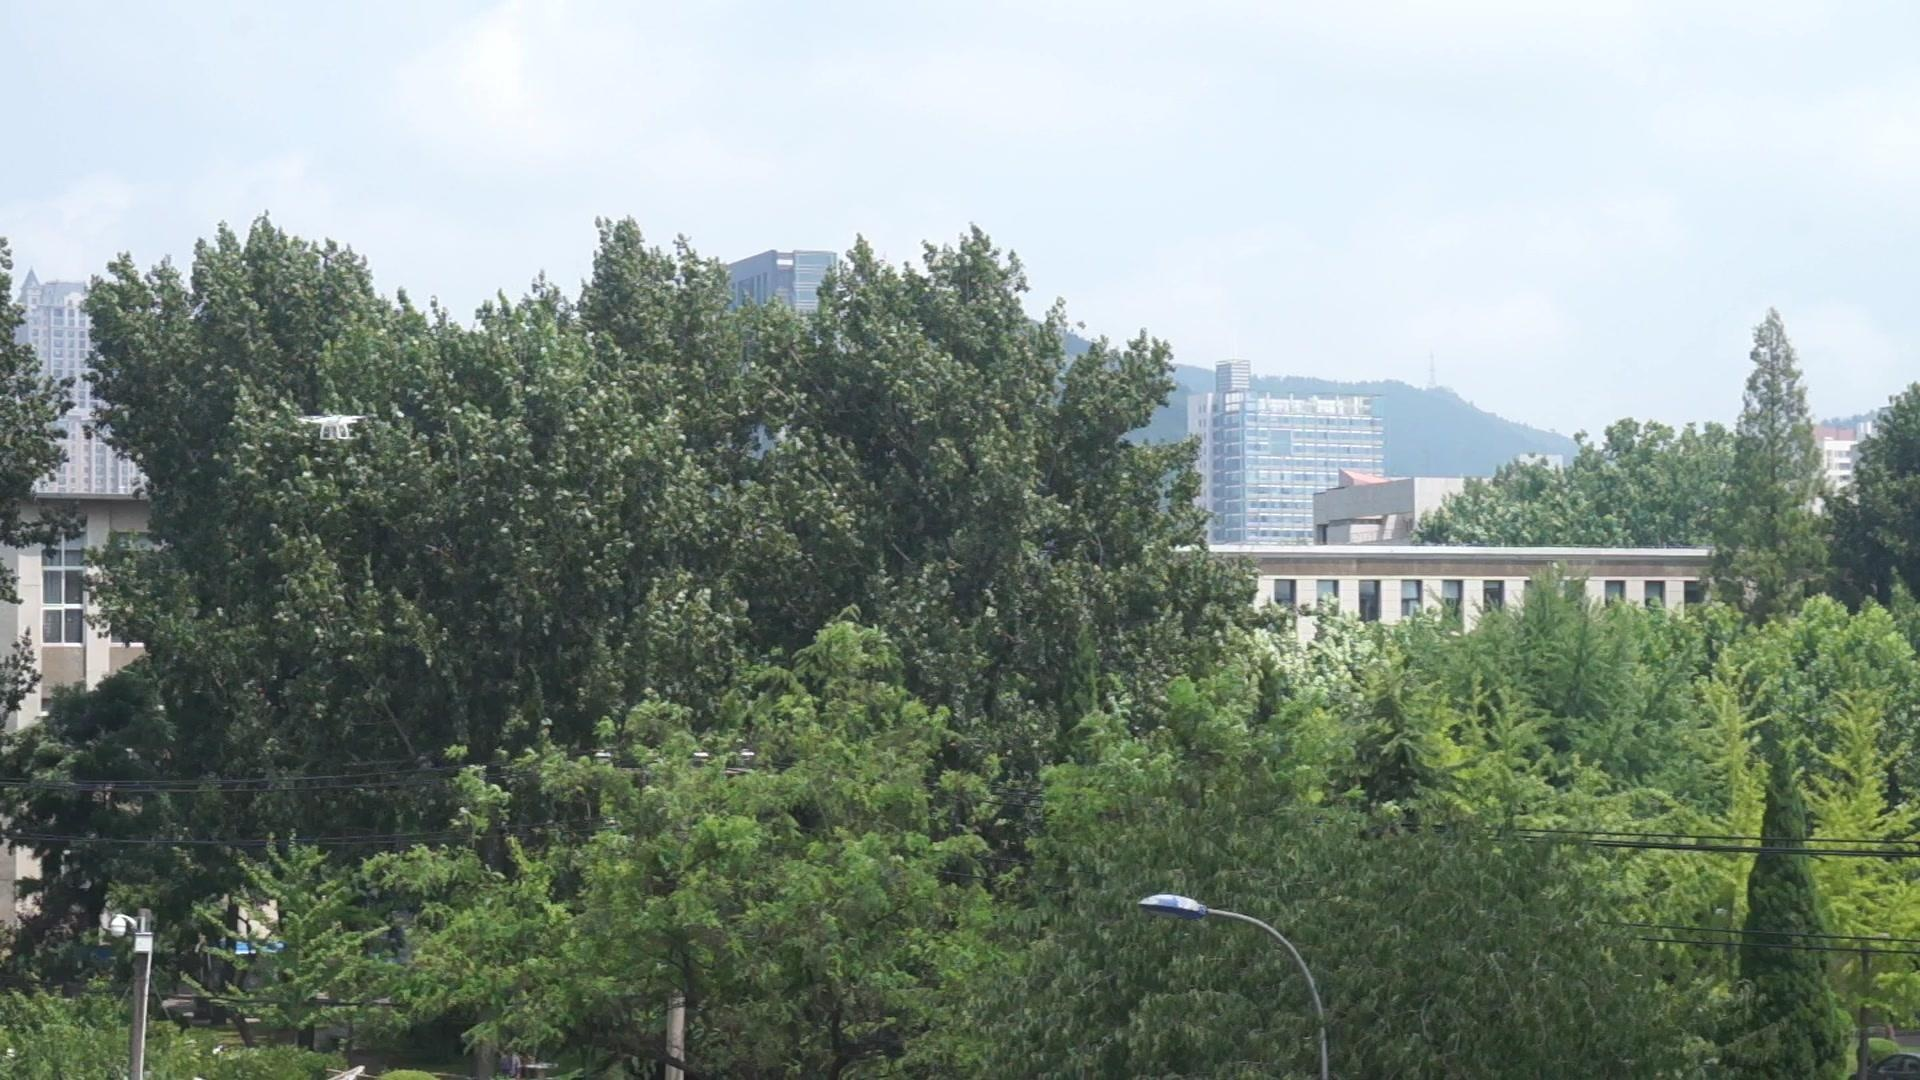UAV: (299, 415, 368, 440)
